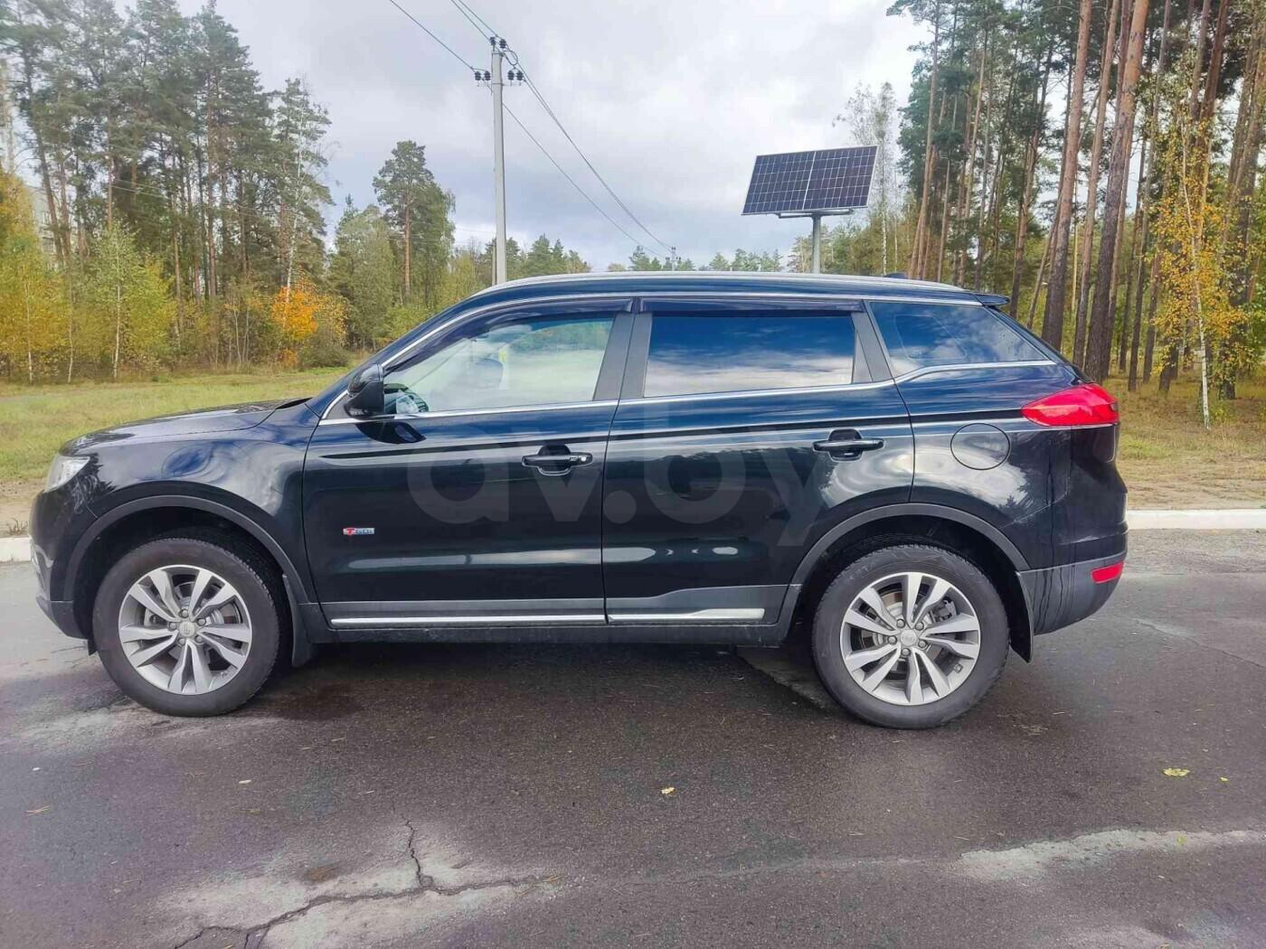Atlas_2016-2023: (26, 265, 1130, 730)
